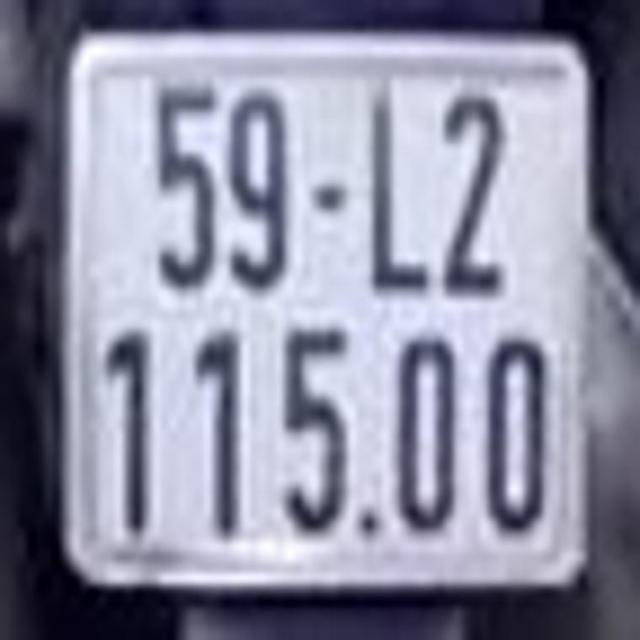0: (390, 314, 468, 538), (491, 311, 552, 531)
1: (94, 320, 173, 539), (193, 322, 263, 543)
2: (436, 81, 511, 298)
5: (279, 306, 352, 544), (148, 68, 222, 298)
9: (222, 72, 302, 291)
L: (354, 66, 440, 297)
